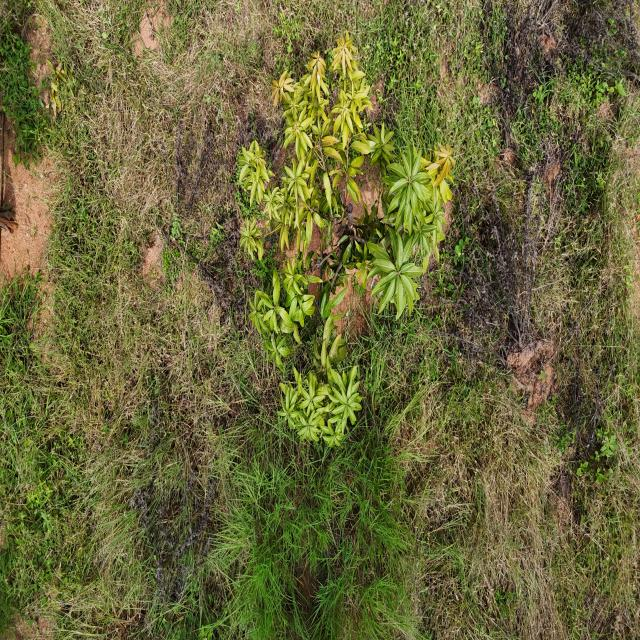mangoTree: (235, 29, 456, 452)
